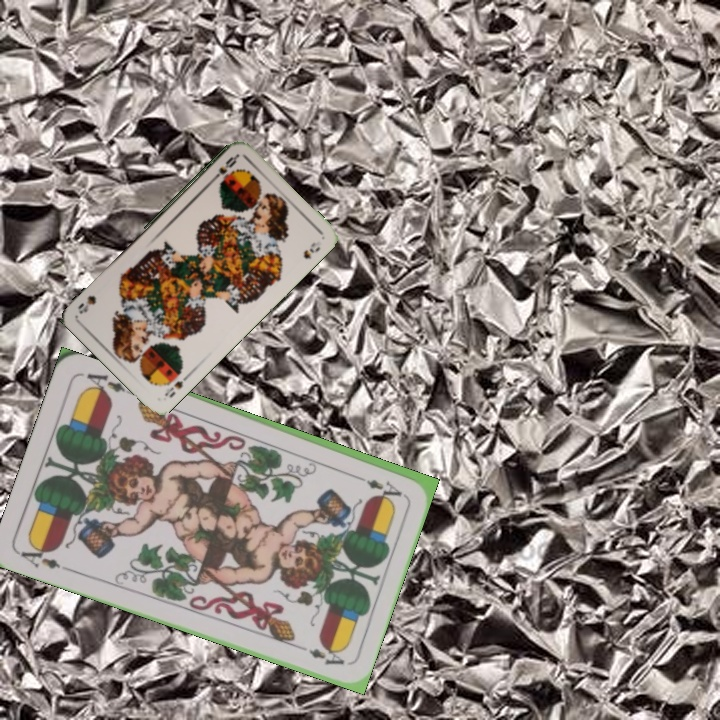EA: (16, 540, 73, 574), (349, 470, 405, 499)
SO: (208, 151, 240, 184), (160, 370, 192, 400)
